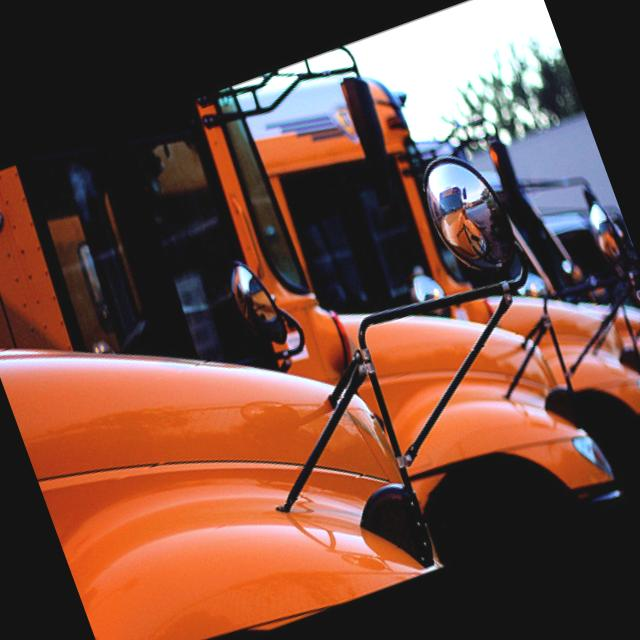Vehicle: (0, 1, 634, 640), (238, 0, 640, 596), (423, 86, 640, 523)
